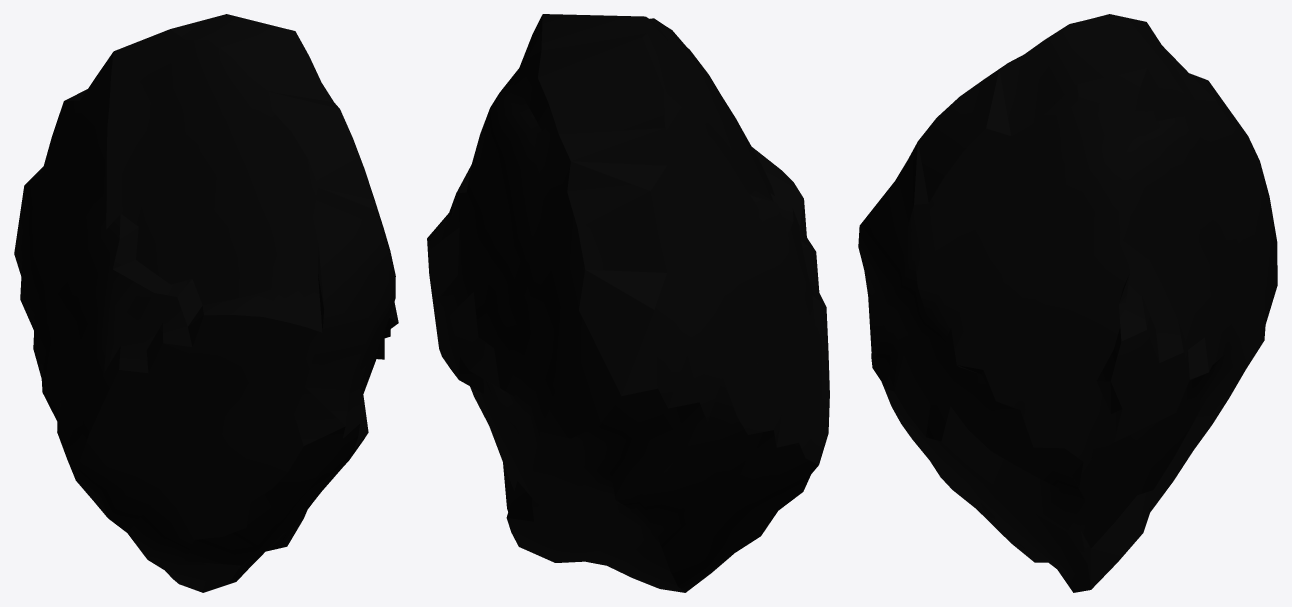
Rendered from rock_tall_01.glb.
3 views of the same model, side by side, from view 1: azimuth 30°, elevation 25°; view 2: azimuth 150°, elevation 25°; view 3: azimuth 270°, elevation 25° (orthographic). The views are drawn at different scales.
Parts seen in each view (by area): view 1: rock_tall_01; view 2: rock_tall_01; view 3: rock_tall_01.
Part boxes in pixels (bbox=[...]): rock_tall_01: bbox=[14, 14, 398, 592]; rock_tall_01: bbox=[427, 14, 829, 592]; rock_tall_01: bbox=[858, 14, 1277, 592].
Size of the model in its own units: 1.11 by 1.73 by 1.21.
Materials: 1 (1 with a texture image).
